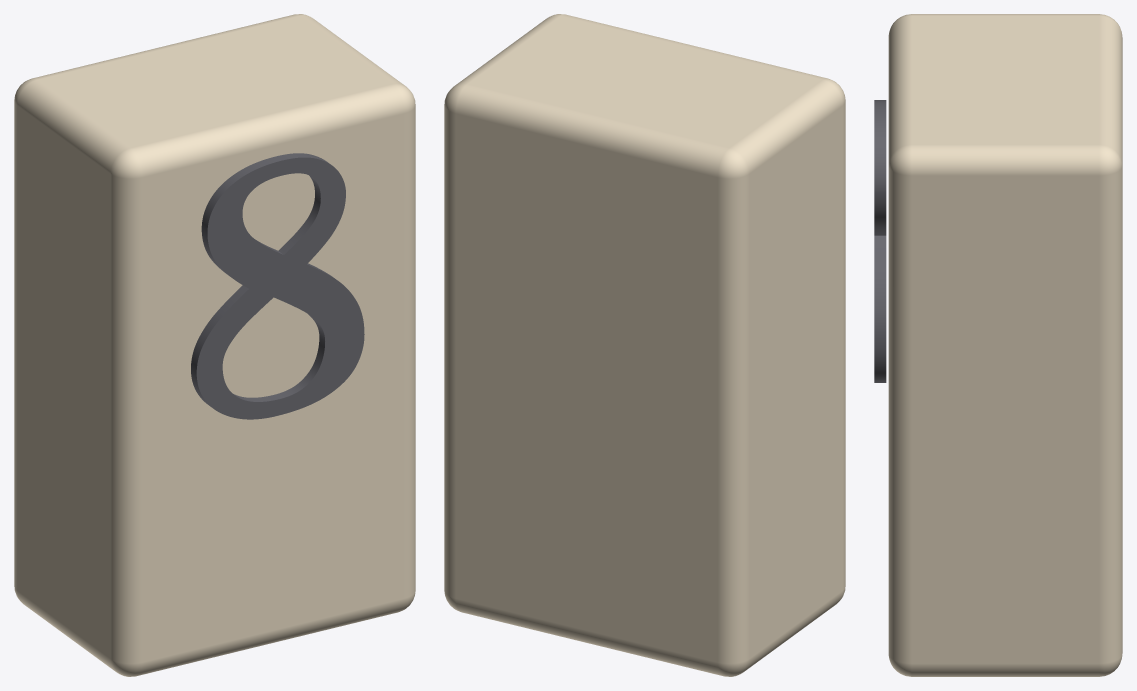
The model's file is pin_8.gltf.
3 renders of one model, left to right at view 1: azimuth 30°, elevation 25°; view 2: azimuth 150°, elevation 25°; view 3: azimuth 270°, elevation 25°, orthographic.
Parts seen in each view (by area): view 1: White, Black; view 2: White; view 3: White, Black.
Part boxes in pixels (box(x1,y1,x2,y2)): White: box(14, 14, 415, 676); Black: box(191, 153, 364, 419); White: box(444, 14, 845, 676); White: box(888, 14, 1122, 676); Black: box(874, 100, 886, 382).
Bounding box in the file's own units: 1.5 × 2.5 × 1.06.
